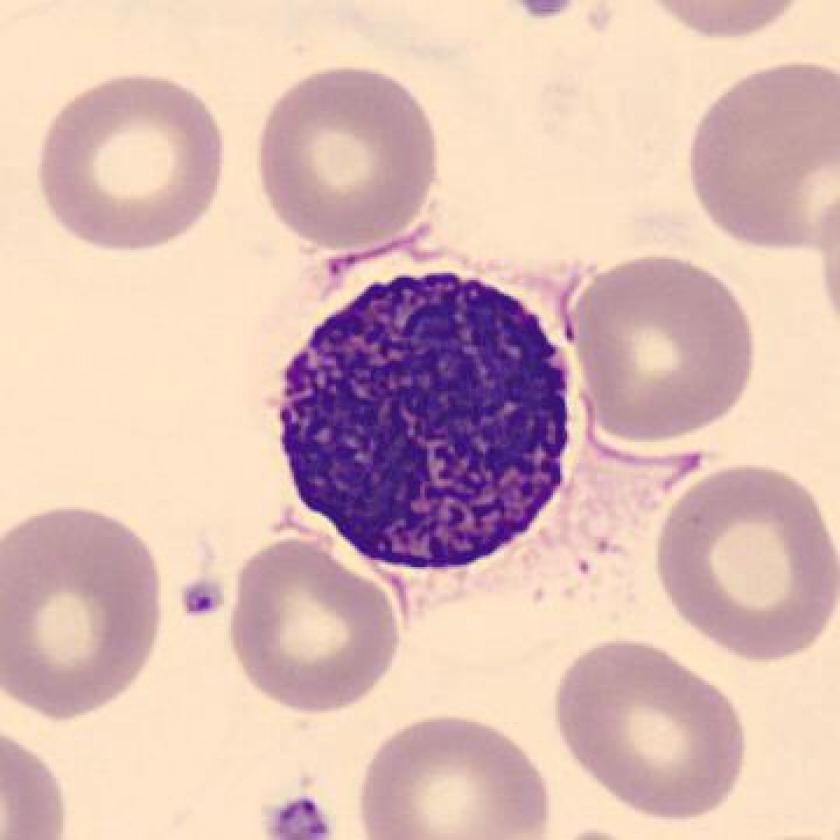basophil: (265, 265, 587, 577)
